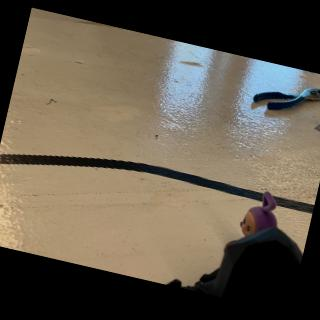teletubby: (239, 191, 277, 236)
